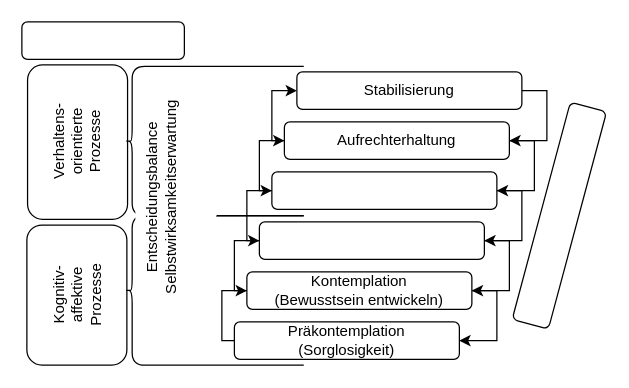
Image size: 629x388. Some labels were removed from this diagram. Here are the shapes that lost their labels. From the top down, the centre of each, then its label:
point (102, 40): Förderliche Prozesse
point (384, 190): Handlung
point (559, 215): Rückfall
point (371, 240): Vorbereitung
